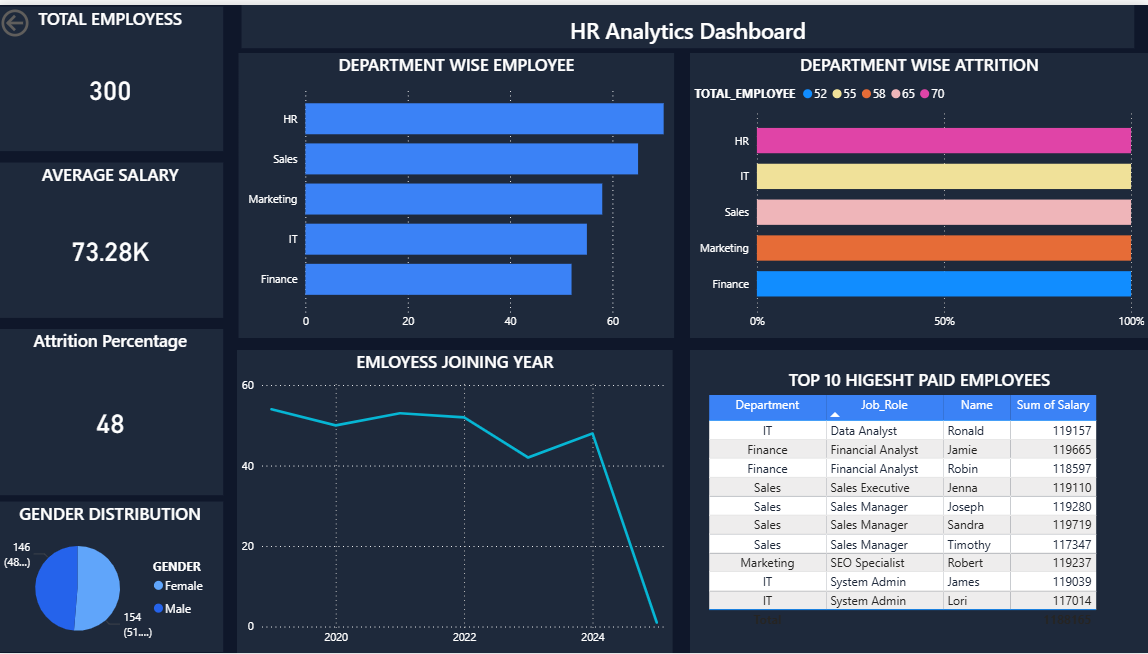

This screenshot's page, from the dashboard's own definition file:
{"tool":"powerbi","page":{"name":"Page 1","canvas":[1280,720],"ordinal":0},"visuals":[{"type":"kpi","title":"TOTAL EMPLOYESS ","fields":{"Indicator":["Sum(Total_Employees.TOTAL_EMPLOYESS)"],"TrendLine":["Total_Employees.TOTAL_EMPLOYESS"]},"box":[0,1.7,251.4,160.8],"z":0},{"type":"kpi","title":"AVERAGE SALARY ","fields":{"Indicator":["Sum(avg_salary.AVERAGE_SALARY)"],"TrendLine":["avg_salary.AVERAGE_SALARY"]},"box":[0,174.5,251.4,172.8],"z":1000},{"type":"clusteredBarChart","title":" DEPARTMENT WISE EMPLOYEE","fields":{"Category":["Department_wise_Employee_Count6.DEPARTMENT"],"Y":["Sum(Department_wise_Employee_Count6.TOTAL_EMPLOYEE)"]},"box":[268.5,53,484.1,316.4],"z":2000},{"type":"pieChart","title":"GENDER DISTRIBUTION","fields":{"Y":["Sum(Male_vs_Female_Employees12.EMPLOYEE_COUNT)"],"Category":["Male_vs_Female_Employees12.GENDER"]},"box":[0,552.5,251.4,167.6],"z":3000},{"type":"lineChart","title":"EMLOYESS JOINING YEAR","fields":{"Category":["Employees_Joined_Each_Year7.JOINING_YEAR"],"Y":["Sum(Employees_Joined_Each_Year7.EMPLOYED_HIRED)"]},"box":[266.8,383.1,484.1,337],"z":4000},{"type":"kpi","title":"Attrition Percentage ","fields":{"Indicator":["Sum(Attrition_Percentage3.Attrition_Percentage)"],"TrendLine":["Attrition_Percentage3.Attrition_Percentage"]},"box":[0,359.2,251.4,184.7],"z":5000},{"type":"hundredPercentStackedBarChart","title":"DEPARTMENT WISE ATTRITION","fields":{"Category":["Attrition_by_Department1.DEPARTMENT"],"Y":["Sum(Attrition_by_Department1.ATTRITION_COUNT)"],"Series":["Department_wise_Employee_Count6.TOTAL_EMPLOYEE"]},"box":[769.7,53,509.7,316.4],"z":6000},{"type":"tableEx","title":"TOP 10 HIGESHT PAID EMPLOYEES","fields":{"Values":["TOP_10_HIGHEST_PAID_SALARY15.Department","TOP_10_HIGHEST_PAID_SALARY15.Job_Role","TOP_10_HIGHEST_PAID_SALARY15.Name","Sum(TOP_10_HIGHEST_PAID_SALARY15.Salary)"]},"box":[770,383,510,337],"z":7000},{"type":"actionButton","box":[0,0,100,40],"z":8000},{"type":"textbox","box":[272,0,992,48],"z":9000}]}

Visuals, with their boxes in screenshot pixels (x1, y1, x2, y2), scaled from the page's 1280x720 canvas onto the 1148x654 screenshot:
"TOTAL EMPLOYESS " kpi: select_region(0, 2, 225, 148)
"AVERAGE SALARY " kpi: select_region(0, 159, 225, 315)
" DEPARTMENT WISE EMPLOYEE" clusteredBarChart: select_region(241, 48, 675, 336)
"GENDER DISTRIBUTION" pieChart: select_region(0, 502, 225, 653)
"EMLOYESS JOINING YEAR" lineChart: select_region(239, 348, 673, 653)
"Attrition Percentage " kpi: select_region(0, 326, 225, 494)
"DEPARTMENT WISE ATTRITION" hundredPercentStackedBarChart: select_region(690, 48, 1147, 336)
"TOP 10 HIGESHT PAID EMPLOYEES" tableEx: select_region(691, 348, 1147, 653)
actionButton: select_region(0, 0, 90, 36)
textbox: select_region(244, 0, 1134, 44)
